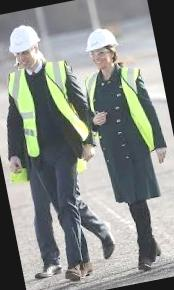helmet: (80, 24, 121, 61), (4, 21, 44, 56)
person: (0, 15, 120, 290), (74, 15, 174, 276)
